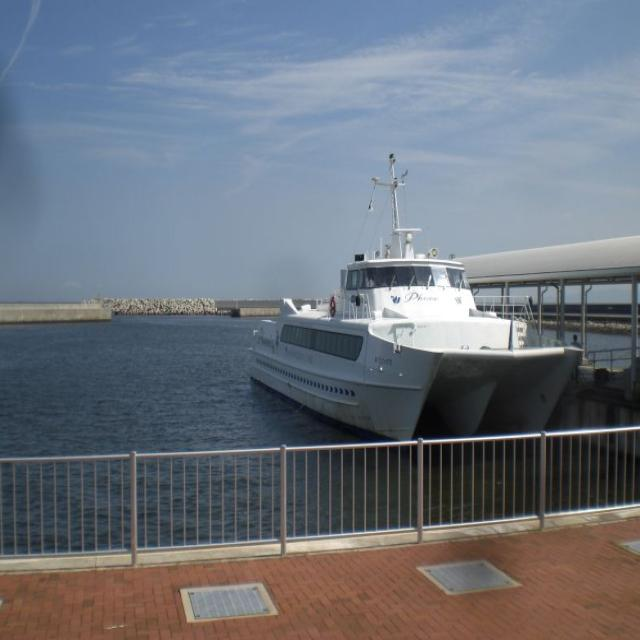houseboat: (246, 173, 579, 444)
